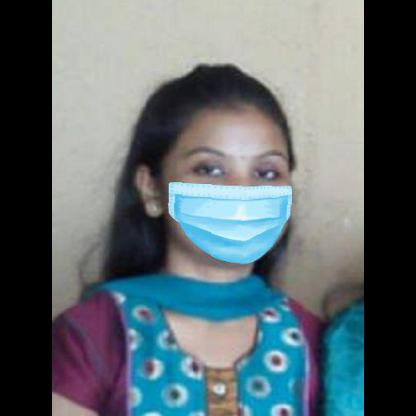Surgical Mask: (126, 75, 301, 277)
